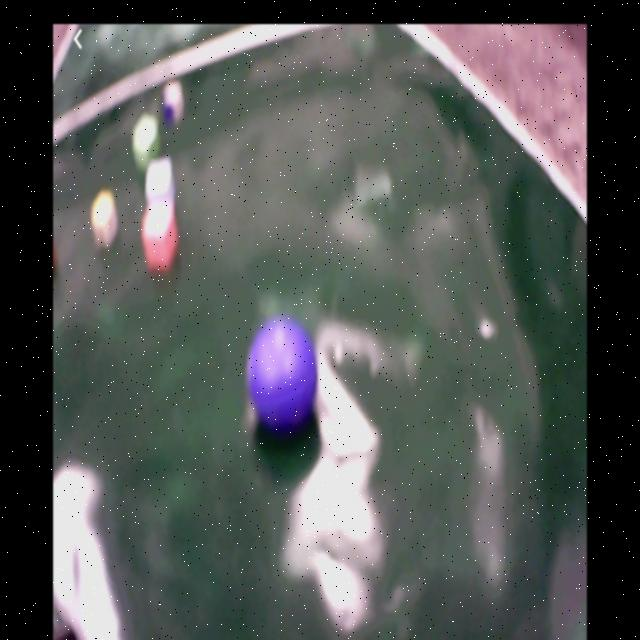ball: (252, 325, 318, 427)
